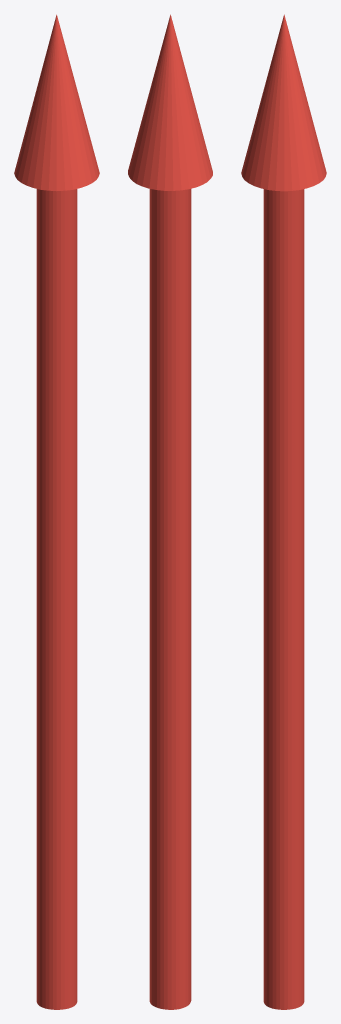
The model's file is Axis 1_O2.gltf.
3 renders of one model, left to right at view 1: azimuth 90°, elevation 25°; view 2: azimuth 150°, elevation 25°; view 3: azimuth 270°, elevation 25°, orthographic.
Parts seen in each view (by area): view 1: Eje_Cono.001_Eje_Cono.004; view 2: Eje_Cono.001_Eje_Cono.004; view 3: Eje_Cono.001_Eje_Cono.004.
Boxes of the visible parts, box(x1,y1,x2,y2) form: Eje_Cono.001_Eje_Cono.004: box(14, 14, 99, 1009); Eje_Cono.001_Eje_Cono.004: box(128, 14, 212, 1009); Eje_Cono.001_Eje_Cono.004: box(241, 14, 326, 1009).
Bounding box in the file's own units: 0.151 × 1.92 × 0.151.
